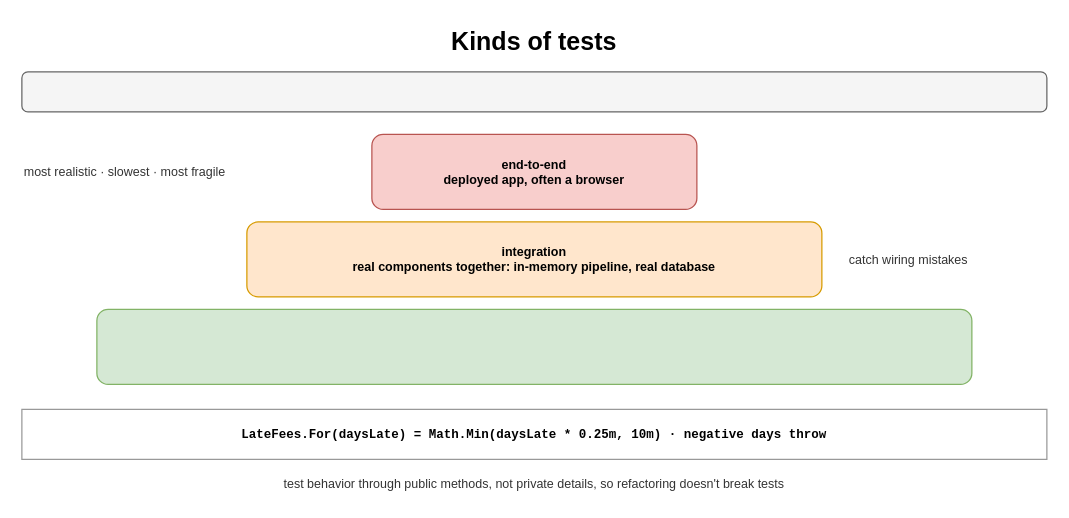
Image size: 1069x518. Some labels were removed from this diagram. Here are the shapes that lost their labels. From the top down, the box of each, then its label:
(21, 71, 1047, 112): Many fast unit tests, fewer integration tests, a handful of end-to-end tests
(96, 308, 972, 384): unit one class or method · collaborators faked · fast and precise
